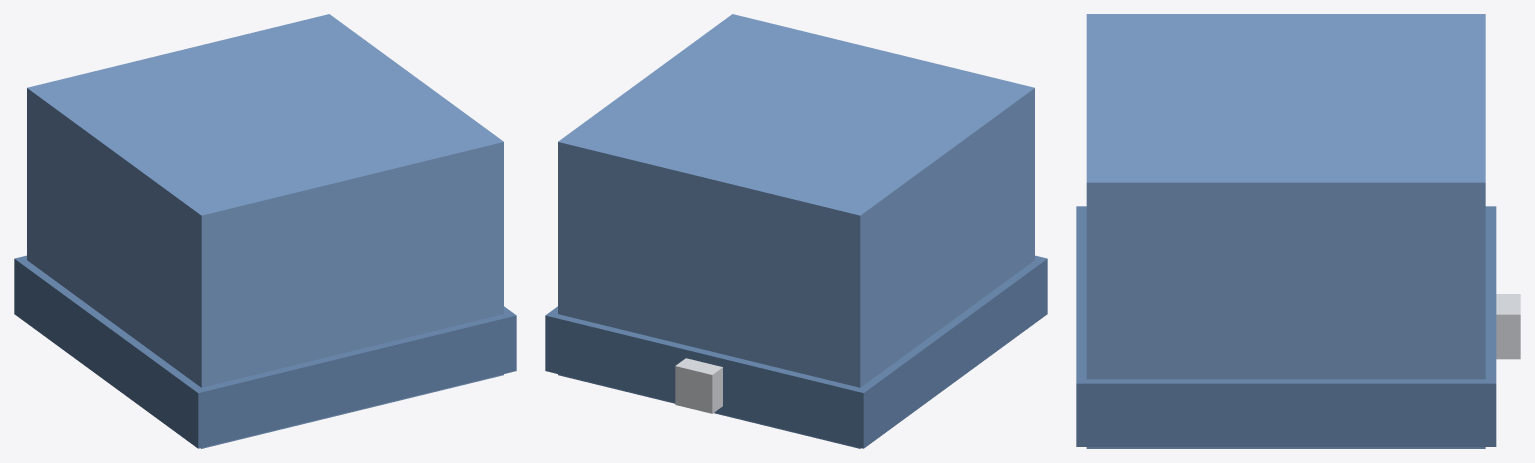
File: jeans_jaqueta_manga_inf.glb
3 renders of one model, left to right at view 1: azimuth 30°, elevation 25°; view 2: azimuth 150°, elevation 25°; view 3: azimuth 270°, elevation 25°, orthographic. The views are drawn at different scales.
Parts seen in each view (by area): view 1: jeans_jaqueta_manga_inf; view 2: jeans_jaqueta_manga_inf; view 3: jeans_jaqueta_manga_inf.
Boxes of the visible parts, x1=… form: jeans_jaqueta_manga_inf: x1=14, y1=14, x2=516, y2=448; jeans_jaqueta_manga_inf: x1=545, y1=14, x2=1047, y2=448; jeans_jaqueta_manga_inf: x1=1076, y1=14, x2=1520, y2=448.
Bounding box in the file's own units: 0.3 × 0.21 × 0.3175.
